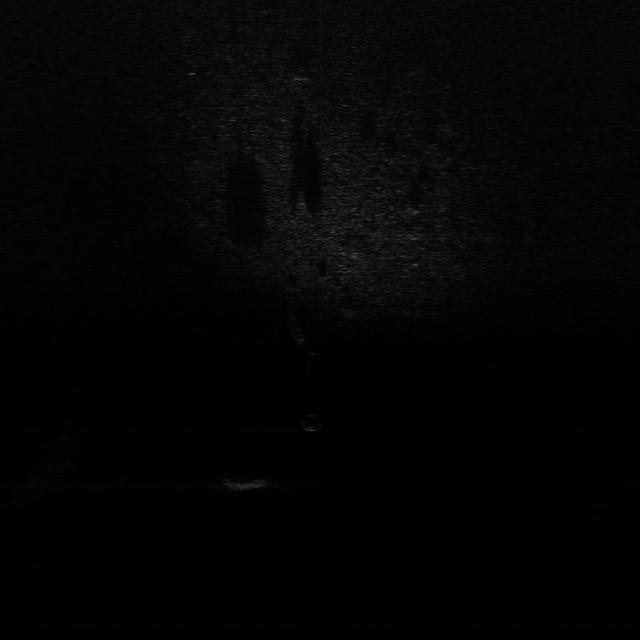ball: (300, 409, 330, 433)
human body: (283, 308, 317, 357)
square cage: (223, 471, 273, 493)
